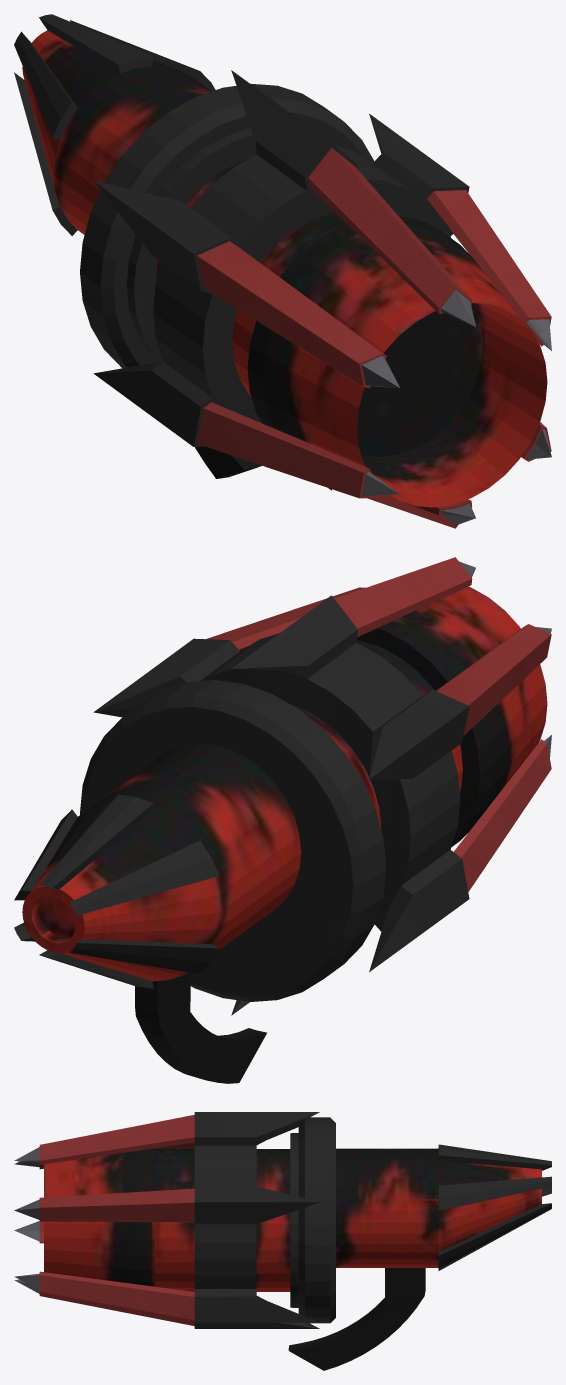
The model's file is missile-launcher.obj.
3 renders of one model, top to bottom at view 1: azimuth 30°, elevation 25°; view 2: azimuth 150°, elevation 25°; view 3: azimuth 270°, elevation 25°, orthographic. The views are drawn at different scales.
Visible parts, largest first — view 1: Tronco_Cylinder; view 2: Tronco_Cylinder; view 3: Tronco_Cylinder.
Part boxes in pixels (x1,y1,x2,y2): Tronco_Cylinder: (14,14,551,528); Tronco_Cylinder: (14,557,551,1083); Tronco_Cylinder: (14,1112,551,1370).
Bounding box in the file's own units: 1.21 × 1.66 × 3.16.
Materials: 8 (8 with a texture image).
